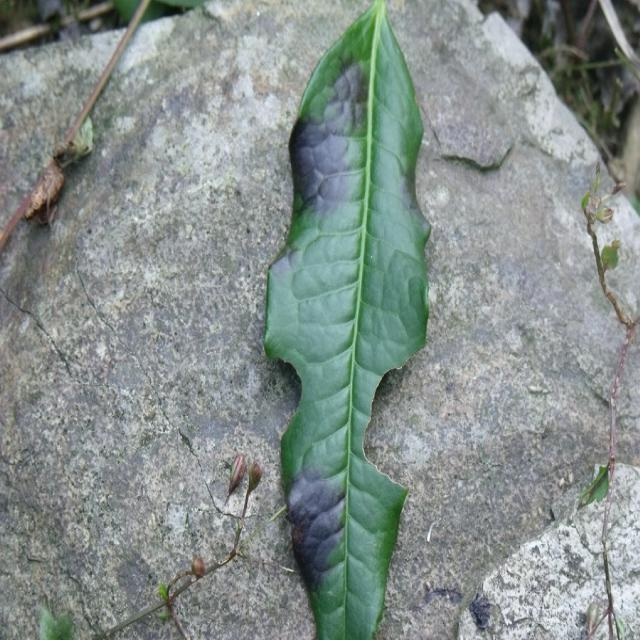Tea exobasidium blight: (277, 68, 365, 212), (282, 438, 355, 589)
